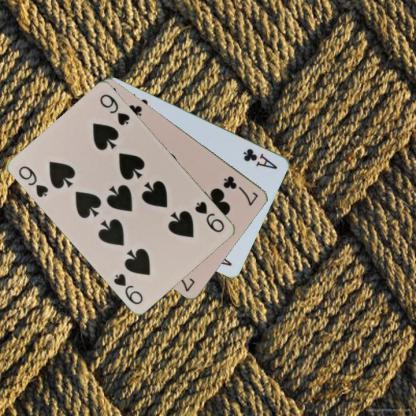7c: (221, 173, 260, 207)
9s: (16, 162, 50, 199), (192, 198, 226, 234)
Ac: (241, 146, 279, 170)
